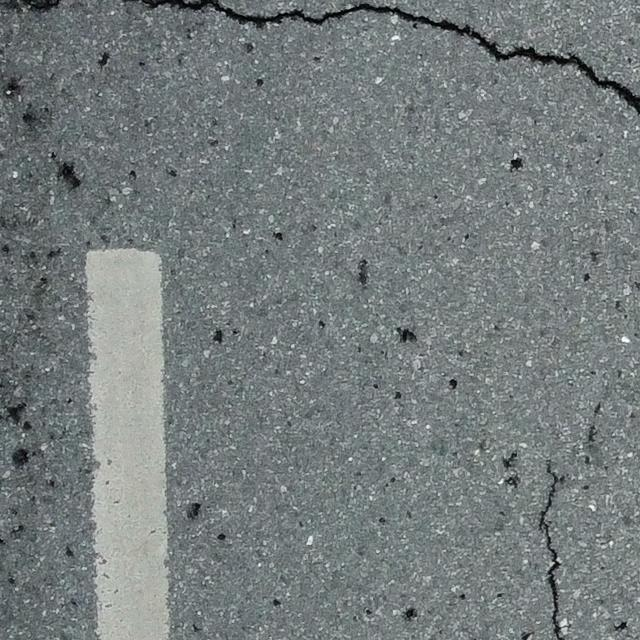LongitudinalCrack: (538, 461, 564, 640)
TransverseCrack: (144, 1, 640, 113)
